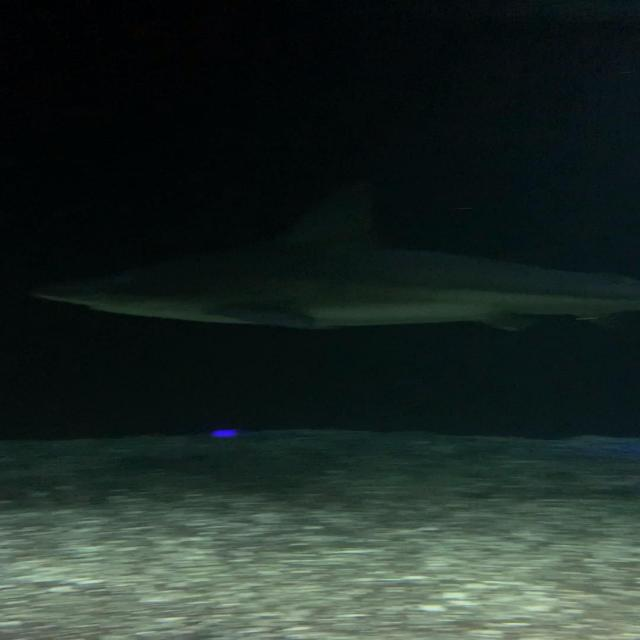shark: (27, 184, 640, 330)
